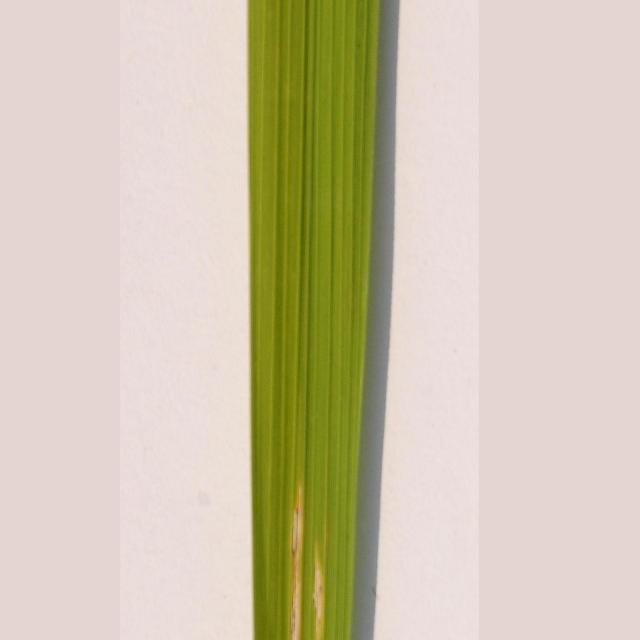leaf blight: (267, 482, 344, 640)
